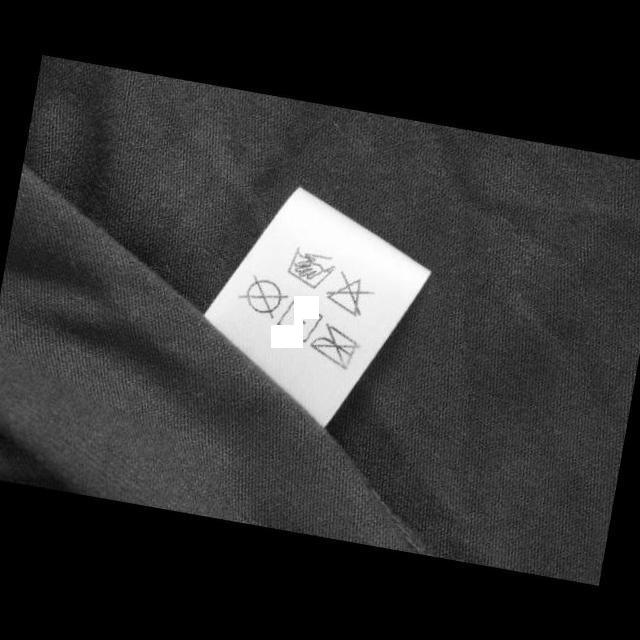DN_bleach: (320, 264, 378, 320)
DN_dry_clean: (231, 269, 293, 324)
DN_iron: (304, 320, 364, 374)
hand_wash: (282, 240, 340, 295)
